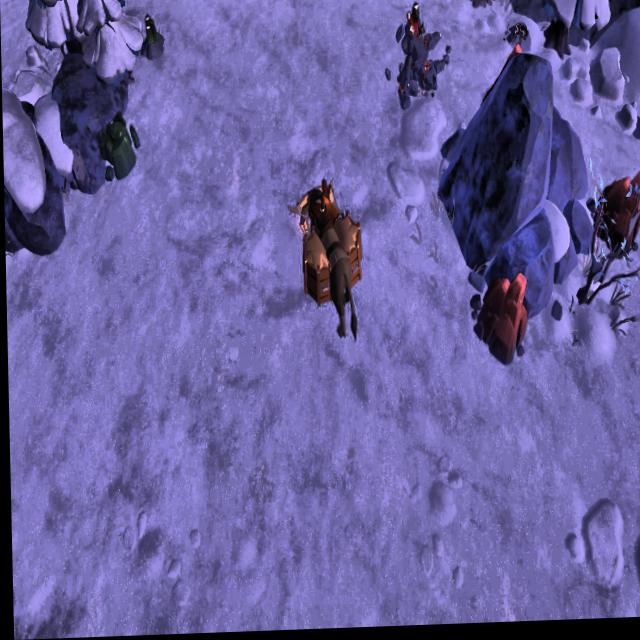ore_t3: (142, 14, 157, 47)
rock_t3: (96, 111, 141, 180)
rock_t5: (469, 278, 525, 373), (594, 169, 640, 259)
